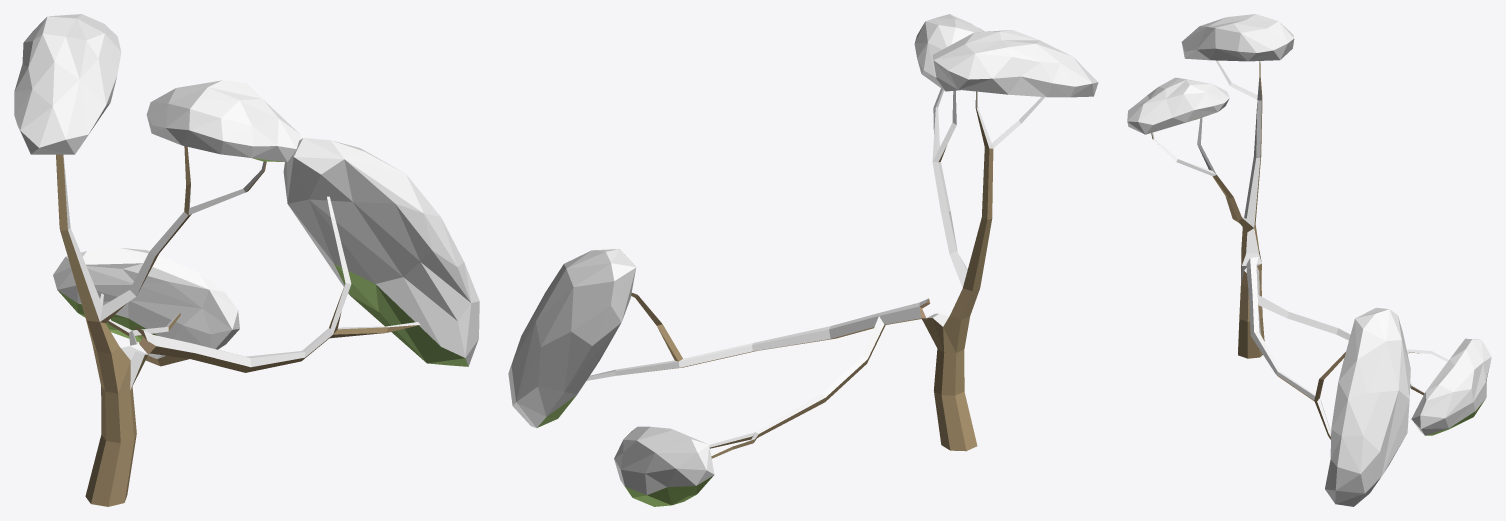
File: Acacia_Tree_crk_l_Snow_02.fbx
The picture shows the model from 3 angles, left to right: view 1: azimuth 30°, elevation 25°; view 2: azimuth 150°, elevation 25°; view 3: azimuth 270°, elevation 25°; orthographic projection. The views are drawn at different scales.
Visible parts, largest first — view 1: Acacia_Tree_crk_l_Snow_02; view 2: Acacia_Tree_crk_l_Snow_02; view 3: Acacia_Tree_crk_l_Snow_02.
Part boxes in pixels (bbox=[...]): Acacia_Tree_crk_l_Snow_02: bbox=[14, 14, 479, 506]; Acacia_Tree_crk_l_Snow_02: bbox=[508, 14, 1098, 506]; Acacia_Tree_crk_l_Snow_02: bbox=[1127, 14, 1491, 506].
Bounding box in the file's own units: 1319 × 1130 × 1110.
